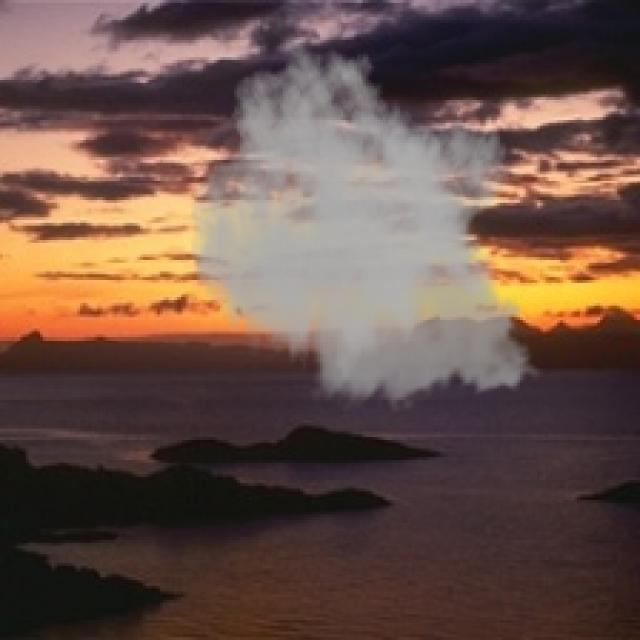smoke: (188, 37, 546, 414)
